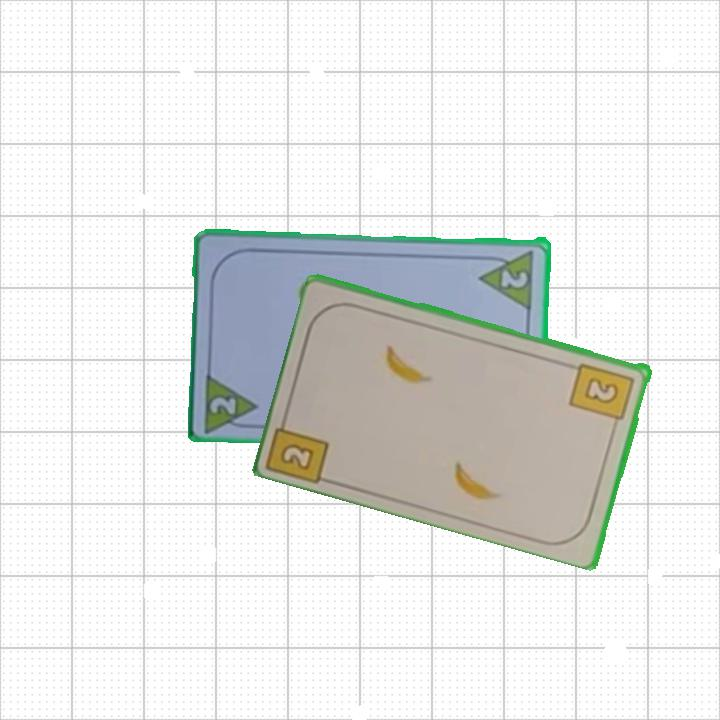2b: (266, 407, 333, 485), (567, 359, 638, 431)
2p: (201, 368, 262, 433), (497, 265, 531, 291)
